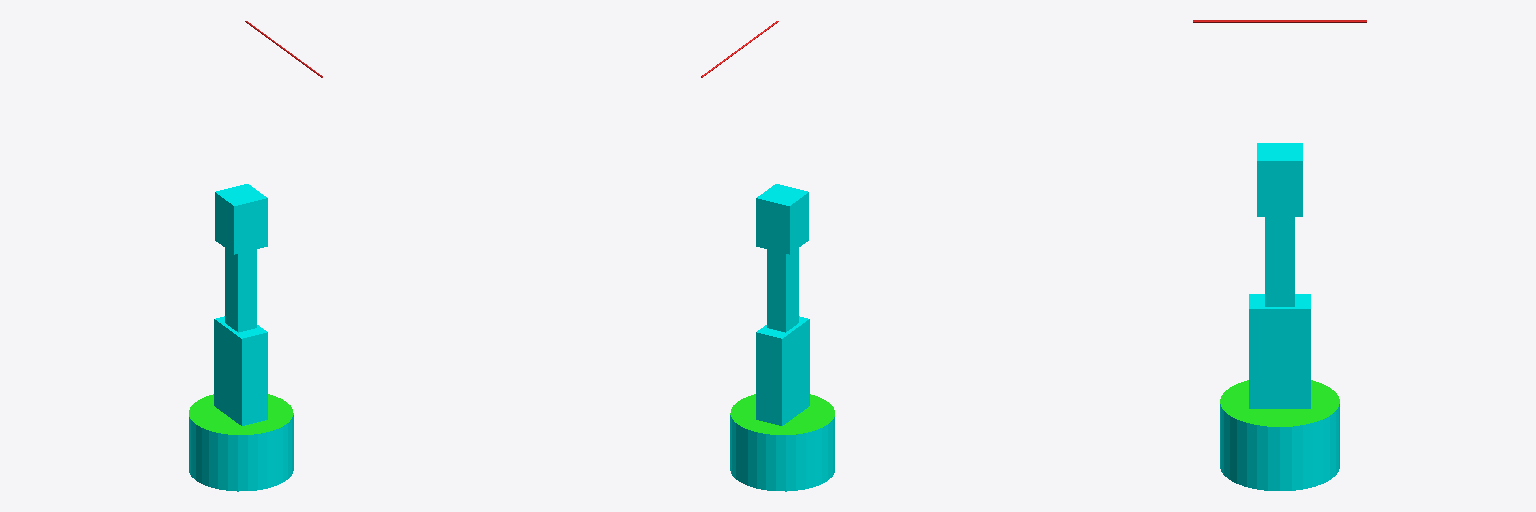
robot.urdf — xArm1S:
<robot
  name="xArm1S">

    <link name="base_plate">
        <visual>
            <origin xyz="0 0 0.0325" rpy="0 0 0"/>
            <geometry>
                <cylinder radius="0.055" length="0.065"/>
            </geometry>
            <material name="Cyan">
                <color rgba="0 1.0 1.0 1.0"/>
            </material>
        </visual>
    </link>

    <link name="plate_to_servo">
        <visual>
            <origin xyz="0 0 0" rpy="0 0 0"/>
            <geometry>
                <cylinder radius="0.055" length="0.00001"/>
            </geometry>
            <material name="Green">
                <color rgba="0.2 1.0 0.2 1.0"/>
            </material>
        </visual>
    </link>

    <link name="arm1">
        <visual>
            <origin xyz="0 0 0.0505" rpy="0 0 0"/>
            <geometry>
                <box size="0.032 0.057 0.101"/>
            </geometry>
            <material name="Cyan">
                <color rgba="0 1.0 1.0 1.0"/>
            </material>
        </visual>
    </link>
    <link name="arm2">
        <visual>
            <origin xyz="0 0 0.0475" rpy="0 0 0"/>
            <geometry>
                <box size="0.023 0.027 0.095"/>
            </geometry>
            <material name="Cyan">
                <color rgba="0 1.0 1.0 1.0"/>
            </material>
        </visual>
    </link>

    <link name="arm3">
        <visual>
            <origin xyz="0 0 0.0279" rpy="0 0 0"/>
            <geometry>
                <box size="0.0404 0.0416 0.0558"/>
            </geometry>
            <material name="Cyan">
                <color rgba="0 1.0 1.0 1.0"/>
            </material>
        </visual>
    </link>

    <link name="cutter" />
    <link name="wire">
        <visual>
            <origin xyz="0 0 0" rpy="1.57079632679 0 0"/>
            <geometry>
                <cylinder radius="0.001" length="0.160"/>
            </geometry>
            <material name="Red">
                <color rgba="1.0 0.2 0.2 1.0"/>
            </material>
        </visual>
    </link>

    <!-- First joint connects the base frame to the rotating plate. This rotates the entire arm about the z-axis-->
    <joint name="j1" type="revolute">
        <parent link="base_plate"/>
        <child link="plate_to_servo"/>
        <origin xyz="0 0 0.065" rpy="0 0 0" />
        <axis xyz="0 0 1.0" />
        <limit effort="1.4709975" velocity="4.75998886909" lower="-2.09439510239" upper="2.09439510239" />
    </joint>

    <!-- Second joint is attached to the rotation plate and swivels the arm about the y-axis, the origin of its rotation
         axis is taken as the end of j1 for convenience-->
    <joint name="j2" type="revolute">
        <parent link="plate_to_servo"/>
        <child link="arm1"/>
        <origin xyz="0 0 0" rpy="0 0 0" />
        <axis xyz="0 -1 0" />
        <limit effort="2.4516625" velocity="4.75998886909" lower="-2.09439510239" upper="2.09439510239" />
    </joint>

    <!-- Third joint is the elbow joint, rotating about the y-axis-->
    <joint name="j3" type="revolute">
        <parent link="arm1"/>
        <child link="arm2"/>
        <origin xyz="0 0 0.101" rpy="0 0 0" />
        <axis xyz="0 -1 0" />
        <limit effort="1.4709975" velocity="4.75998886909" lower="-2.09439510239" upper="2.09439510239" />
    </joint>

    <!-- Fourth joint is the wrist joint, rotating about the y-axis-->
    <joint name="j4" type="revolute">
        <parent link="arm2"/>
        <child link="arm3"/>
        <origin xyz="0 0 0.095" rpy="0 0 0" />
        <axis xyz="0 1 0" />
        <limit effort="1.4709975" velocity="4.75998886909" lower="-2.09439510239" upper="2.09439510239" />
    </joint>

    <!-- Fifth joint is the end effector joint and rotates about the z-axis-->
    <joint name="j5" type="revolute">
        <parent link="arm3"/>
        <child link="cutter"/>
        <origin xyz="0 0 0.0558" rpy="0 0 0" />
        <axis xyz="0 0 1" />
        <limit effort="1.4709975" velocity="4.75998886909" lower="-2.09439510239" upper="2.09439510239" />
    </joint>

    <!-- Ideally this joint would be appended on depending on what end effector is being used, but I haven't looked
    into how to do that yet-->
    <!-- Sixth joint is not really a joint, but instead is the coordinate frame aligning with the cutting wire-->
    <joint name="cutter_to_wire" type="fixed">
        <parent link="cutter"/>
        <child link="wire"/>
        <origin xyz="0.052 0 0.156" rpy="0 0 0" />
    </joint>

</robot>

--- Render facts (derived) ---
Views: 3 orthographic renders of the robot side by side, from view 1: azimuth 30°, elevation 25°; view 2: azimuth 150°, elevation 25°; view 3: azimuth 270°, elevation 25°.
Model xArm1S with 7 links and 6 joints (5 revolute, 1 fixed), rooted at base_plate, posed every joint at zero.
Visible links, largest first — view 1: base_plate, arm1, arm3, arm2, plate_to_servo; view 2: base_plate, arm1, arm3, arm2, plate_to_servo; view 3: base_plate, arm1, arm3, plate_to_servo, arm2.
Link boxes in pixels (x1,y1,x2,y2): base_plate: [189, 415, 293, 491]; arm1: [214, 316, 267, 425]; arm3: [215, 184, 267, 254]; arm2: [225, 248, 256, 332]; plate_to_servo: [189, 394, 293, 434]; base_plate: [730, 415, 834, 491]; arm1: [756, 316, 809, 425]; arm3: [756, 184, 808, 254]; arm2: [767, 248, 798, 332]; plate_to_servo: [730, 394, 834, 434]; base_plate: [1220, 404, 1339, 490]; arm1: [1249, 294, 1310, 408]; arm3: [1257, 143, 1302, 216]; plate_to_servo: [1220, 380, 1339, 426]; arm2: [1265, 217, 1294, 306].
Bounding box of the posed robot: 0.11 × 0.16 × 0.4738 m (x, y, z).
Geometry: primitives only (box / cylinder / sphere), no mesh files.
